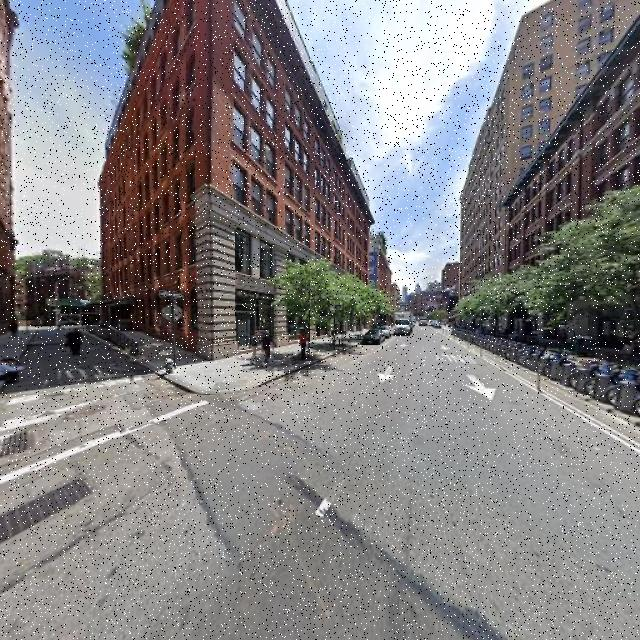Building: (117, 1, 370, 353), (489, 42, 640, 350)
